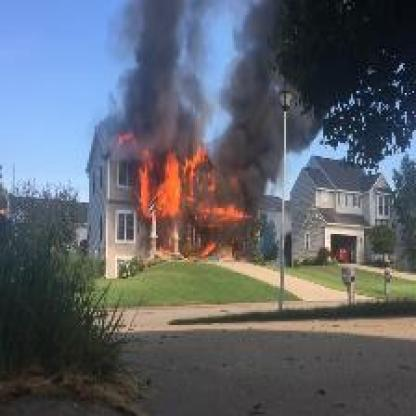fire: (114, 131, 260, 259)
smoke: (114, 2, 194, 144), (228, 37, 298, 179)
